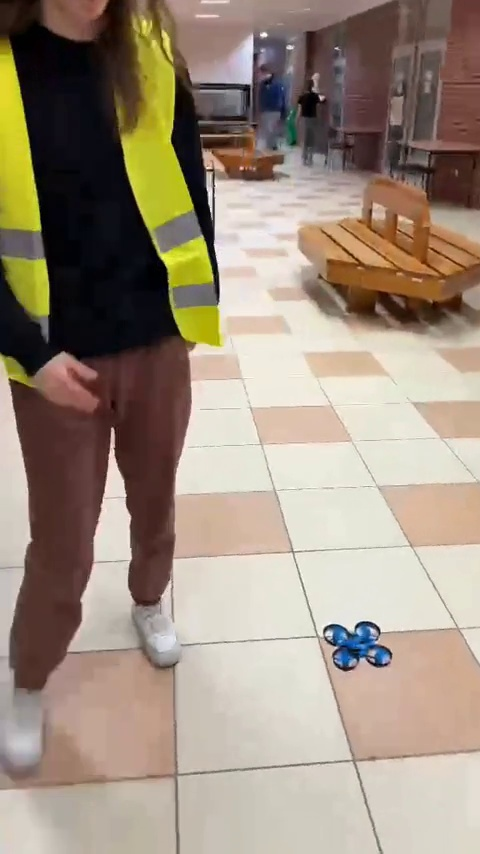drone: (319, 619, 391, 676)
no vest: (252, 58, 288, 164), (291, 76, 329, 169)
vest: (5, 4, 237, 745)
